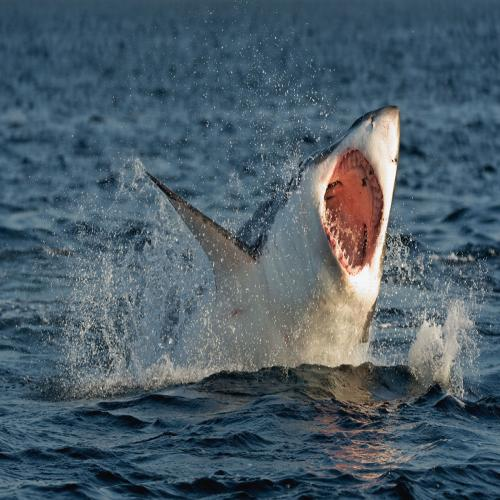shark-endangered: (147, 73, 410, 393)
